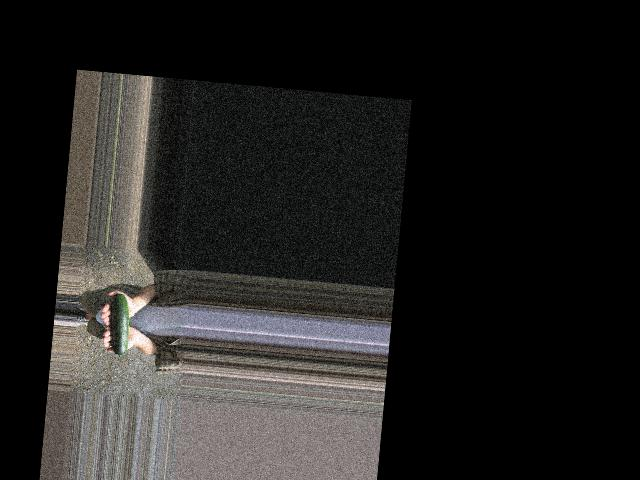cucumber: (106, 293, 132, 363)
